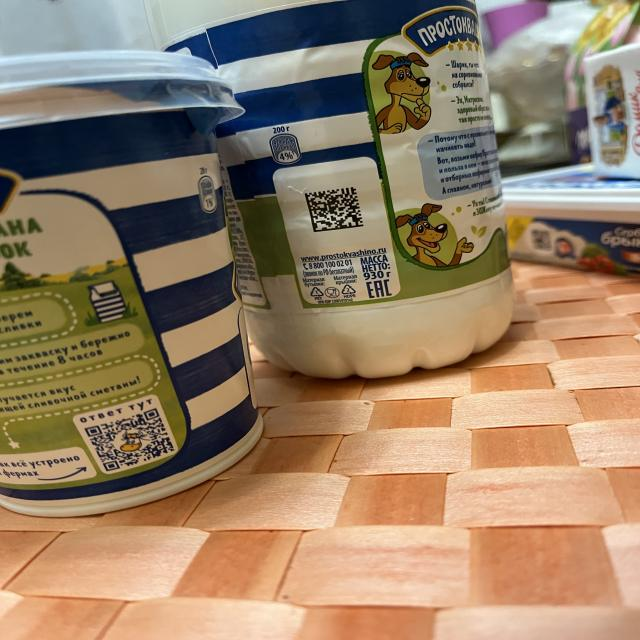datamatrix: (305, 188, 365, 234)
qrcode: (84, 408, 177, 473)
